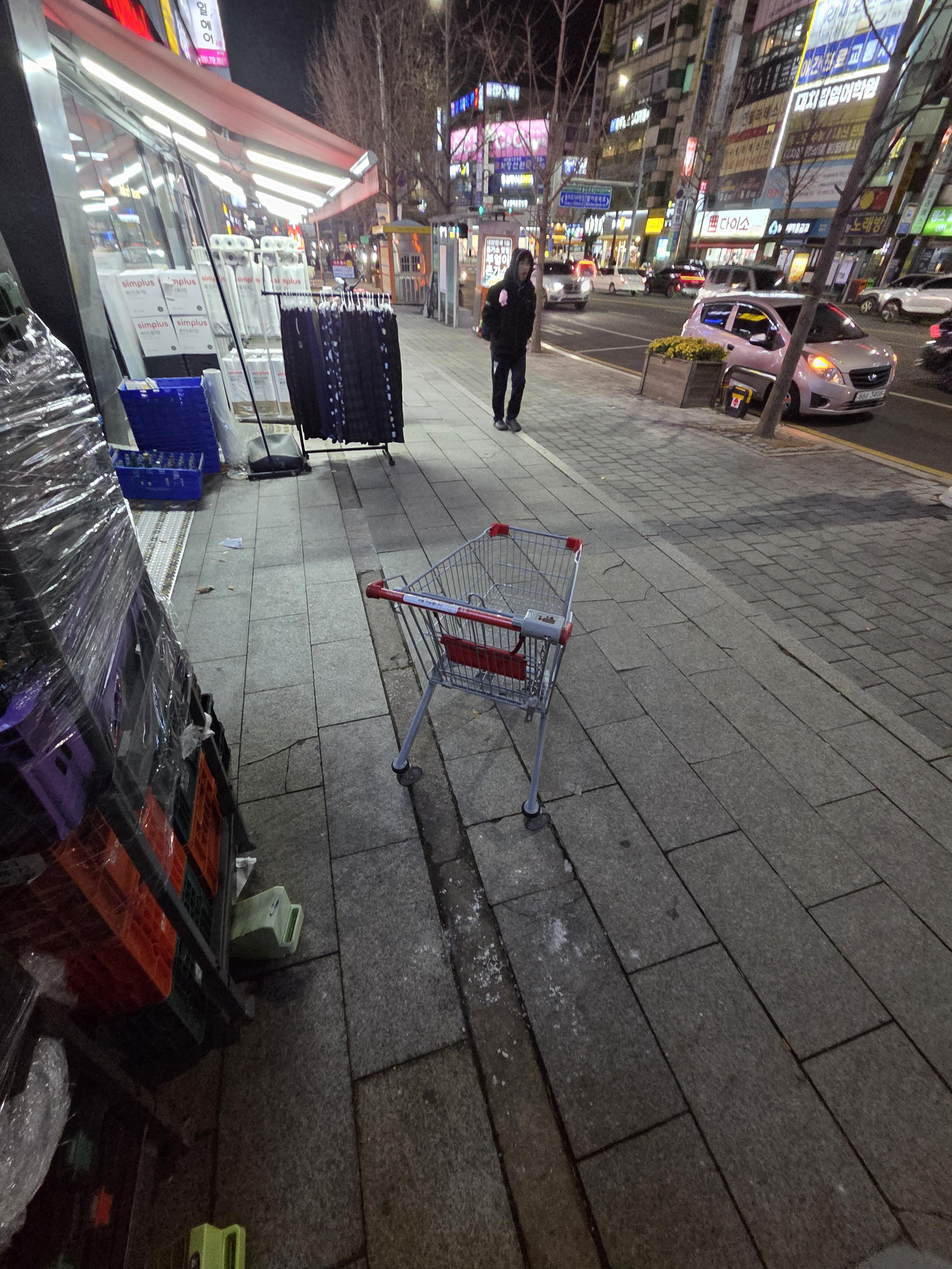empty_cart: (331, 482, 611, 863)
